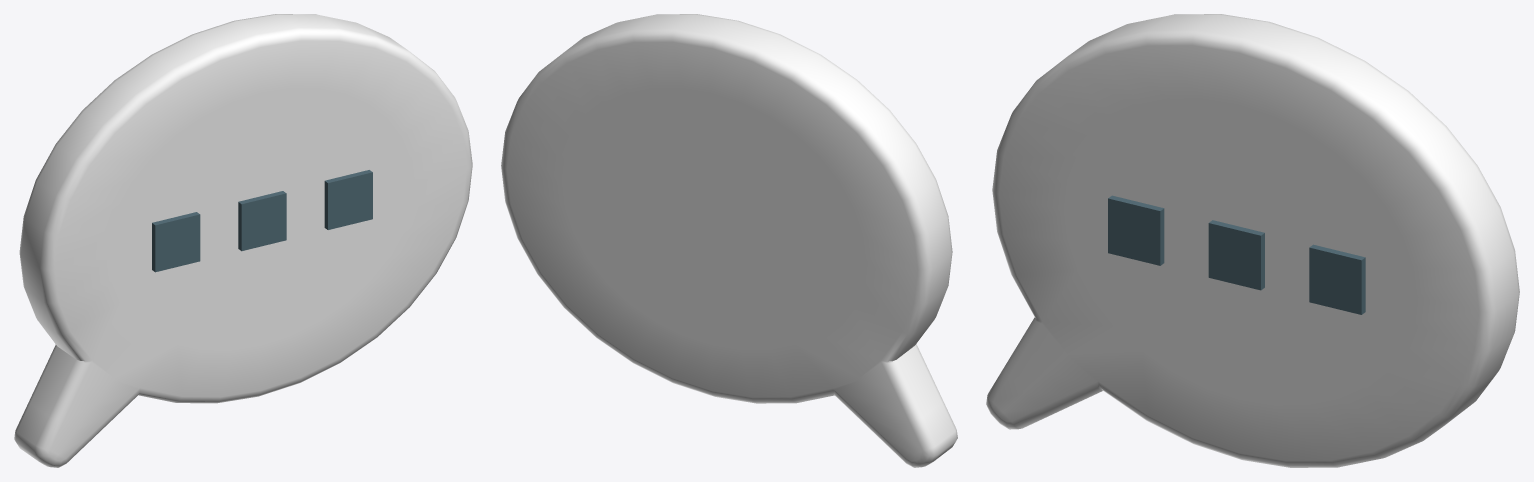
The model's file is speech_balloon.fbx.
3 renders of one model, left to right at view 1: azimuth 30°, elevation 25°; view 2: azimuth 150°, elevation 25°; view 3: azimuth 330°, elevation 25°, orthographic. The views are drawn at different scales.
Parts seen in each view (by area): view 1: Circle.023; view 2: Circle.023; view 3: Circle.023.
Boxes of the visible parts, left/top/right/bottom form: Circle.023: left=14, top=14, right=472, bottom=467; Circle.023: left=501, top=14, right=957, bottom=467; Circle.023: left=986, top=14, right=1519, bottom=467.
Bounding box in the file's own units: 203 × 170 × 26.26.
Materials: 1 (1 with a texture image).
